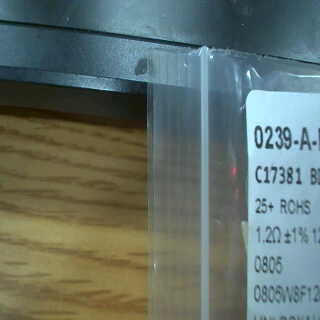1.2R: (252, 223, 282, 278)
